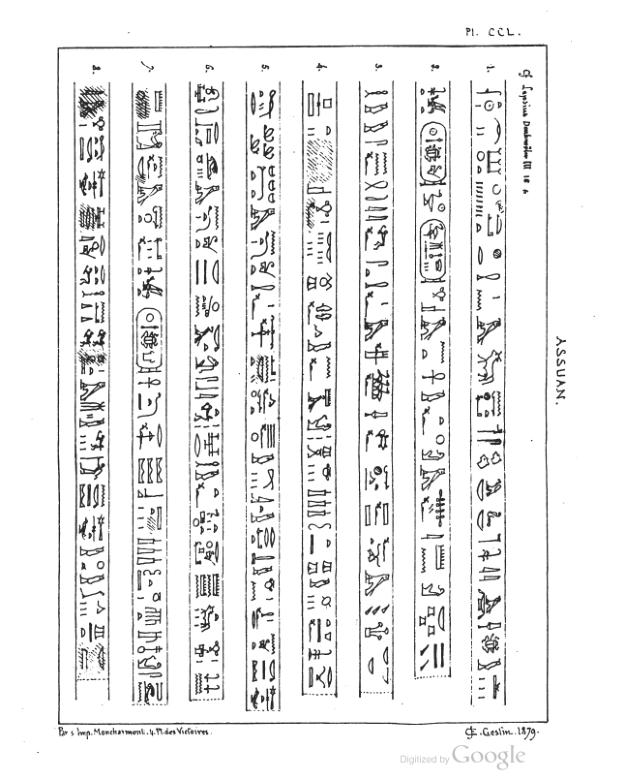circle: (132, 305, 164, 375), (418, 217, 449, 287), (418, 118, 448, 187)
